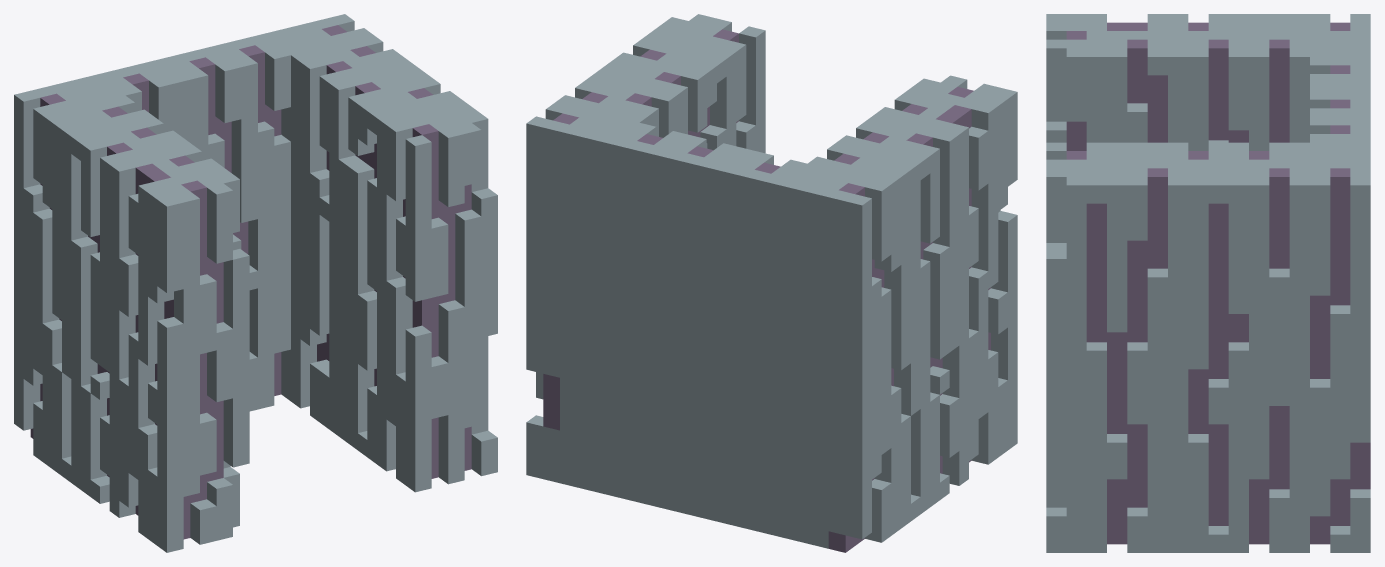
The model's file is Floors-6.obj.
3 renders of one model, left to right at view 1: azimuth 30°, elevation 25°; view 2: azimuth 150°, elevation 25°; view 3: azimuth 270°, elevation 25°, orthographic. The views are drawn at different scales.
Bounding box in the file's own units: 2 × 2 × 1.6.
1 material, 1 textured.
